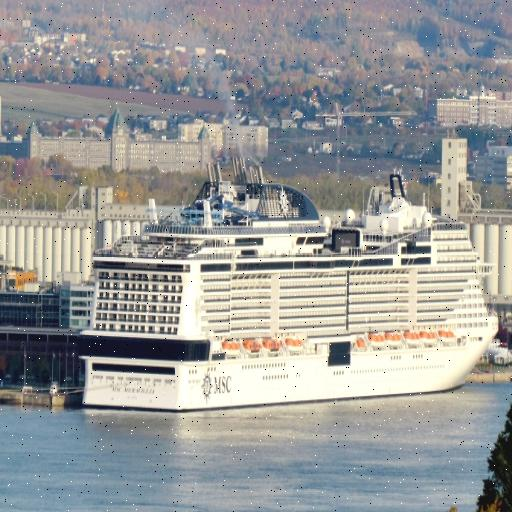cruises: (76, 153, 504, 419)
